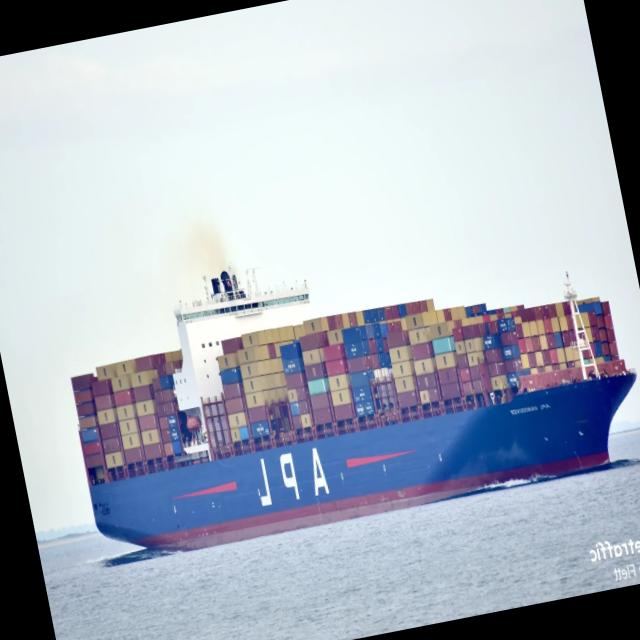Cargo: (73, 270, 636, 548)
